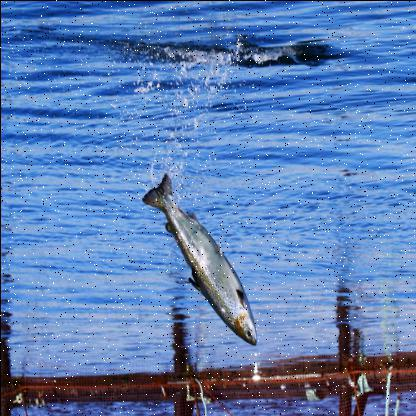fish: (141, 175, 258, 346)
